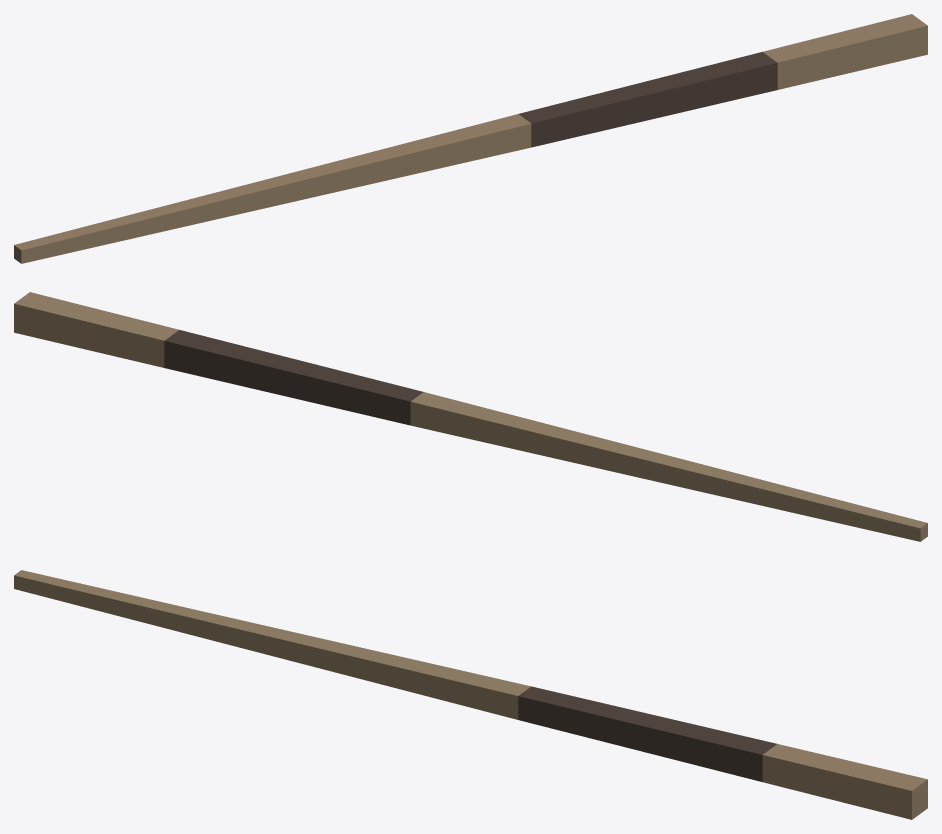
Rendered from hashi.fbx.
The picture shows the model from 3 angles, top to bottom: view 1: azimuth 30°, elevation 25°; view 2: azimuth 150°, elevation 25°; view 3: azimuth 330°, elevation 25°; orthographic projection.
Parts seen in each view (by area): view 1: hashi; view 2: hashi; view 3: hashi.
Boxes of the visible parts, x1,y1,x2,y2 form: hashi: [14, 14, 927, 263]; hashi: [14, 292, 927, 541]; hashi: [14, 570, 927, 819].
Size of the model in its own units: 43.28 by 1.33 by 1.33.
Materials: 1 (1 with a texture image).
